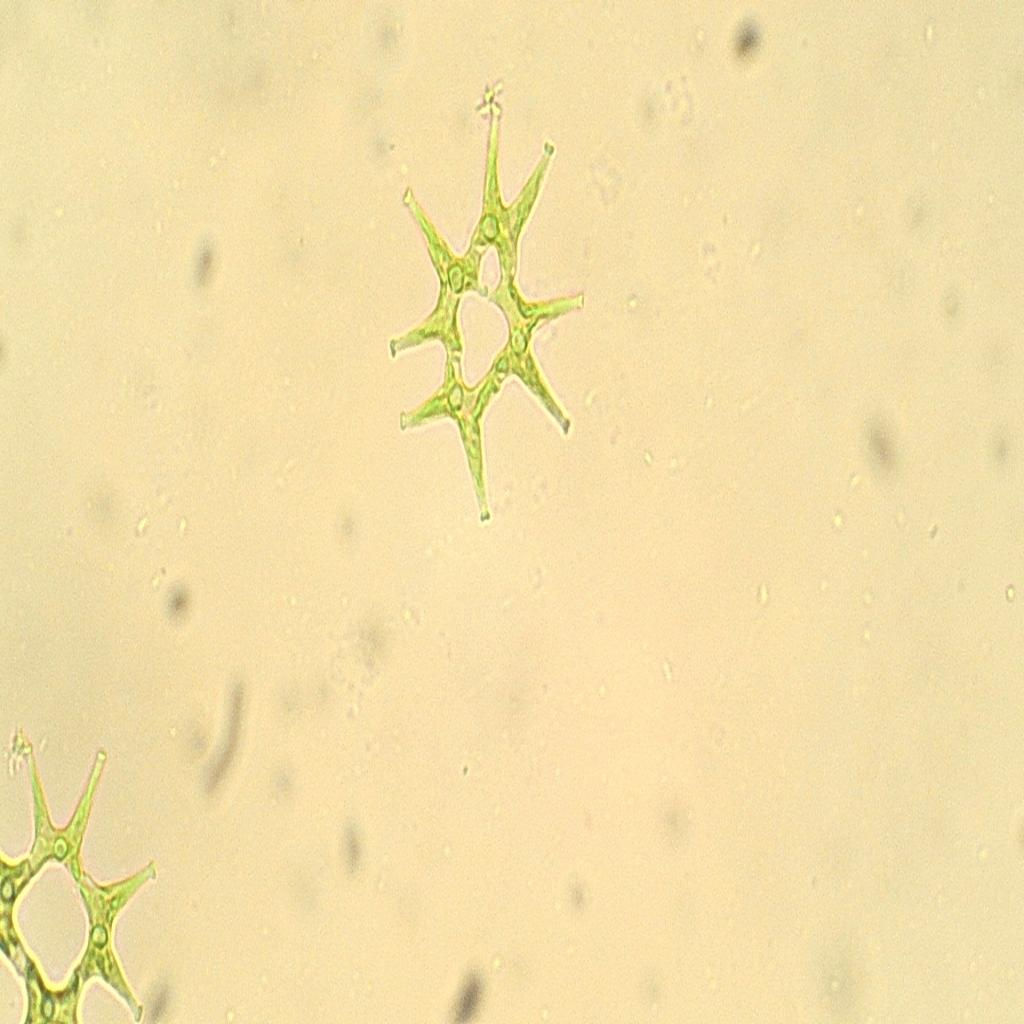Pediastrum_CF: (379, 79, 593, 537)
